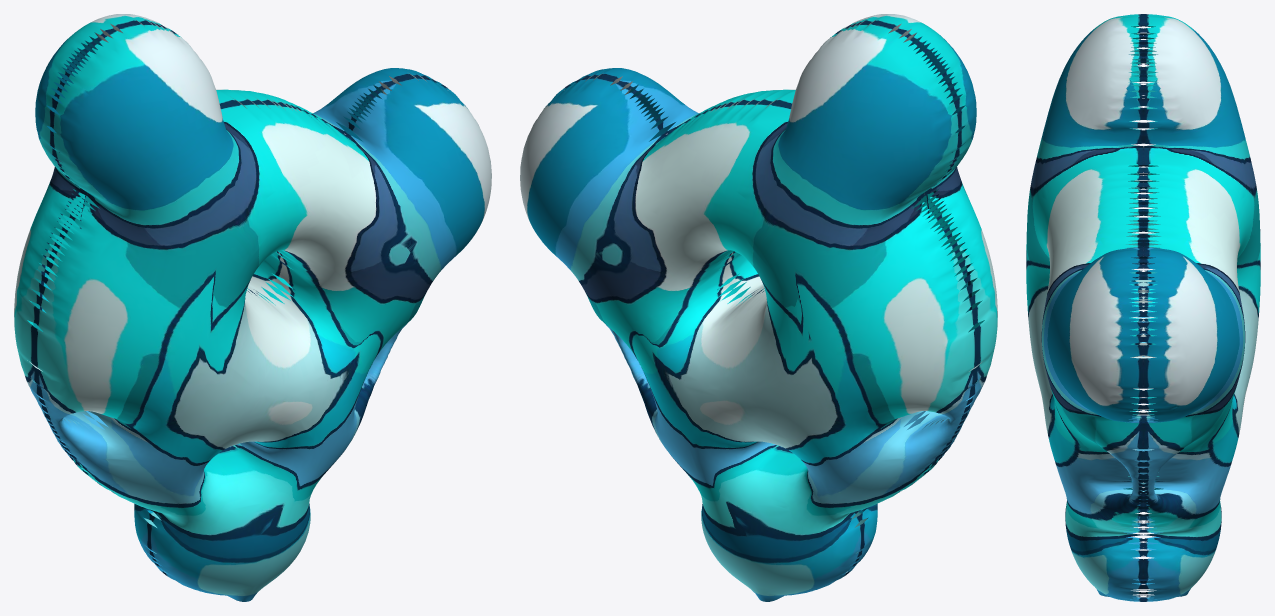
File: cyan_generator.glb
3 views of the same model, side by side, from view 1: azimuth 30°, elevation 25°; view 2: azimuth 150°, elevation 25°; view 3: azimuth 270°, elevation 25° (orthographic). The views are drawn at different scales.
Parts seen in each view (by area): view 1: cyan_generator; view 2: cyan_generator; view 3: cyan_generator.
Boxes of the visible parts, box(x1,y1,x2,y2) form: cyan_generator: box(14, 14, 491, 601); cyan_generator: box(520, 14, 997, 601); cyan_generator: box(1026, 14, 1260, 601).
Bounding box in the file's own units: 0.9861 × 1.24 × 0.4991.
1 material, 1 textured.
